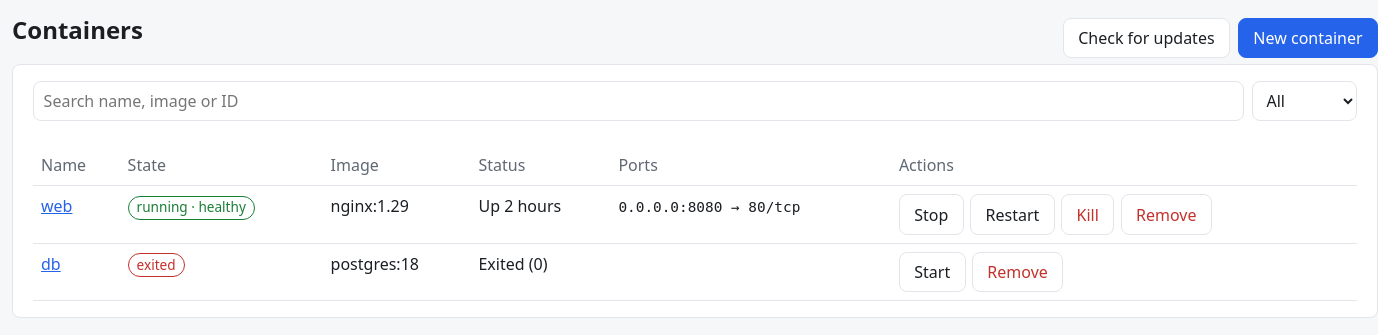
Test: ContainersView › checks for updates on request
The width and height of the screenshot is (1378, 335).
Click the button "Check for updates": (1146, 38) [1063,18,1230,58]
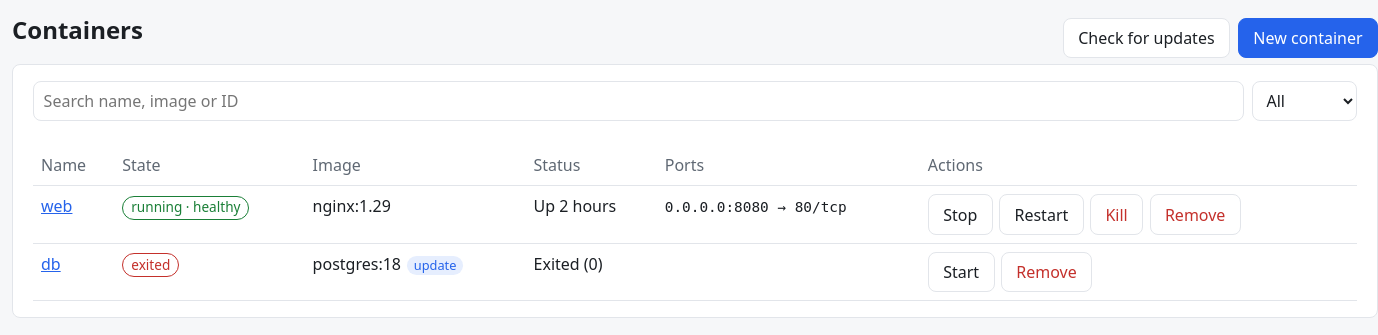
Now the text "update" is shown, box [407,256,463,275]
